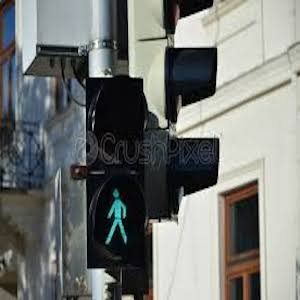green: (97, 187, 130, 248)
